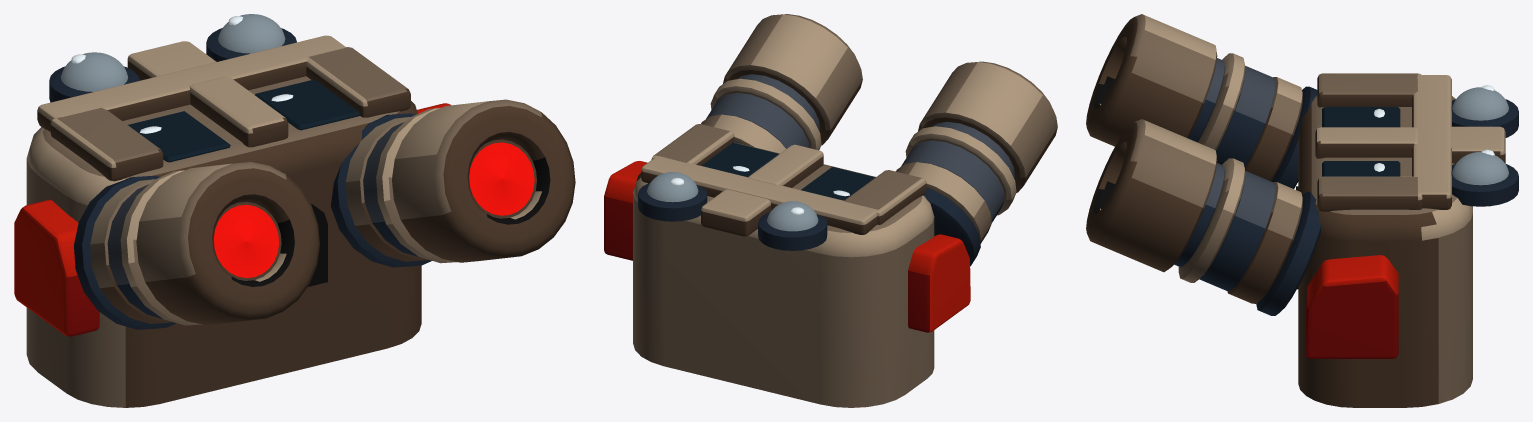
Rendered from tan_launcher_275.glb.
3 views of the same model, side by side, from view 1: azimuth 30°, elevation 25°; view 2: azimuth 150°, elevation 25°; view 3: azimuth 270°, elevation 25° (orthographic). The views are drawn at different scales.
Visible parts, largest first — view 1: tan_launcher_275; view 2: tan_launcher_275; view 3: tan_launcher_275.
Boxes of the visible parts, bbox=[...] form: tan_launcher_275: bbox=[14, 14, 575, 407]; tan_launcher_275: bbox=[604, 14, 1057, 407]; tan_launcher_275: bbox=[1086, 14, 1518, 407].
Size of the model in its own units: 21.9 by 15.13 by 22.65.
